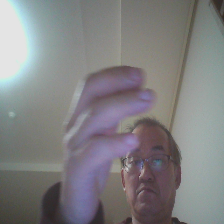hand: (60, 57, 145, 224)
